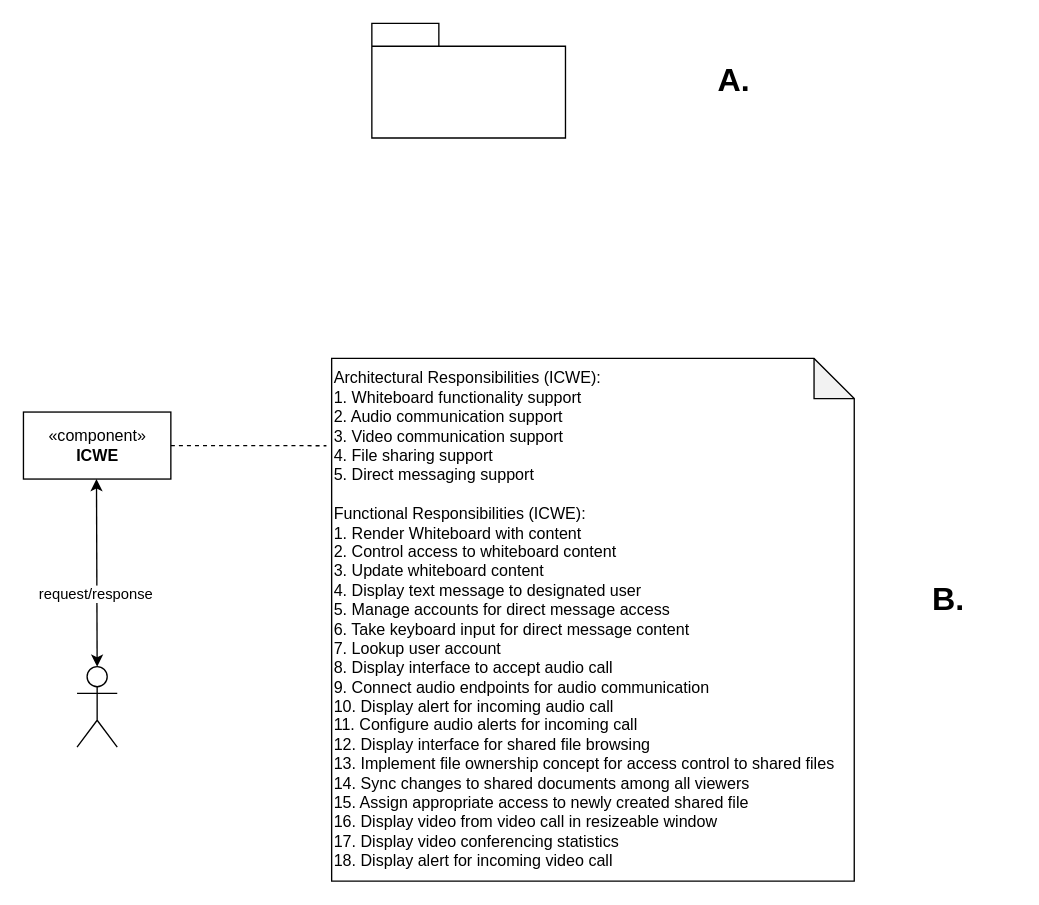
Image size: 1039x905. Some labels were removed from this diagram. Each missing label, with the centre of its shape:
"<<module>> Internet-based Collaborative Work Environment (ICWE)" goes at (468,80).
"Client" goes at (96,706).
